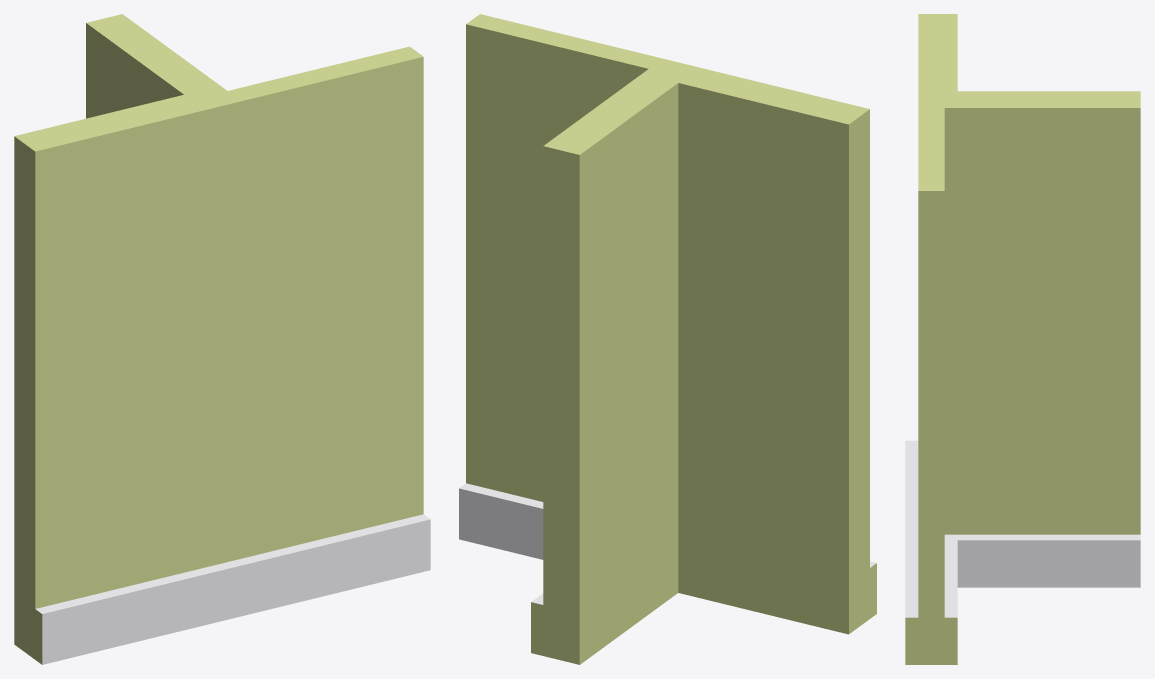
Rendered from TWallInsideCornerEdge.glb.
3 views of the same model, side by side, from view 1: azimuth 30°, elevation 25°; view 2: azimuth 150°, elevation 25°; view 3: azimuth 270°, elevation 25° (orthographic). The views are drawn at different scales.
Visible parts, largest first — view 1: TWallInsideCornerEdge; view 2: TWallInsideCornerEdge; view 3: TWallInsideCornerEdge.
Boxes of the visible parts, x1,y1,x2,y2 form: TWallInsideCornerEdge: (14, 14, 430, 664); TWallInsideCornerEdge: (459, 14, 876, 664); TWallInsideCornerEdge: (905, 14, 1140, 664).
Bounding box in the file's own units: 32 × 40 × 18.
